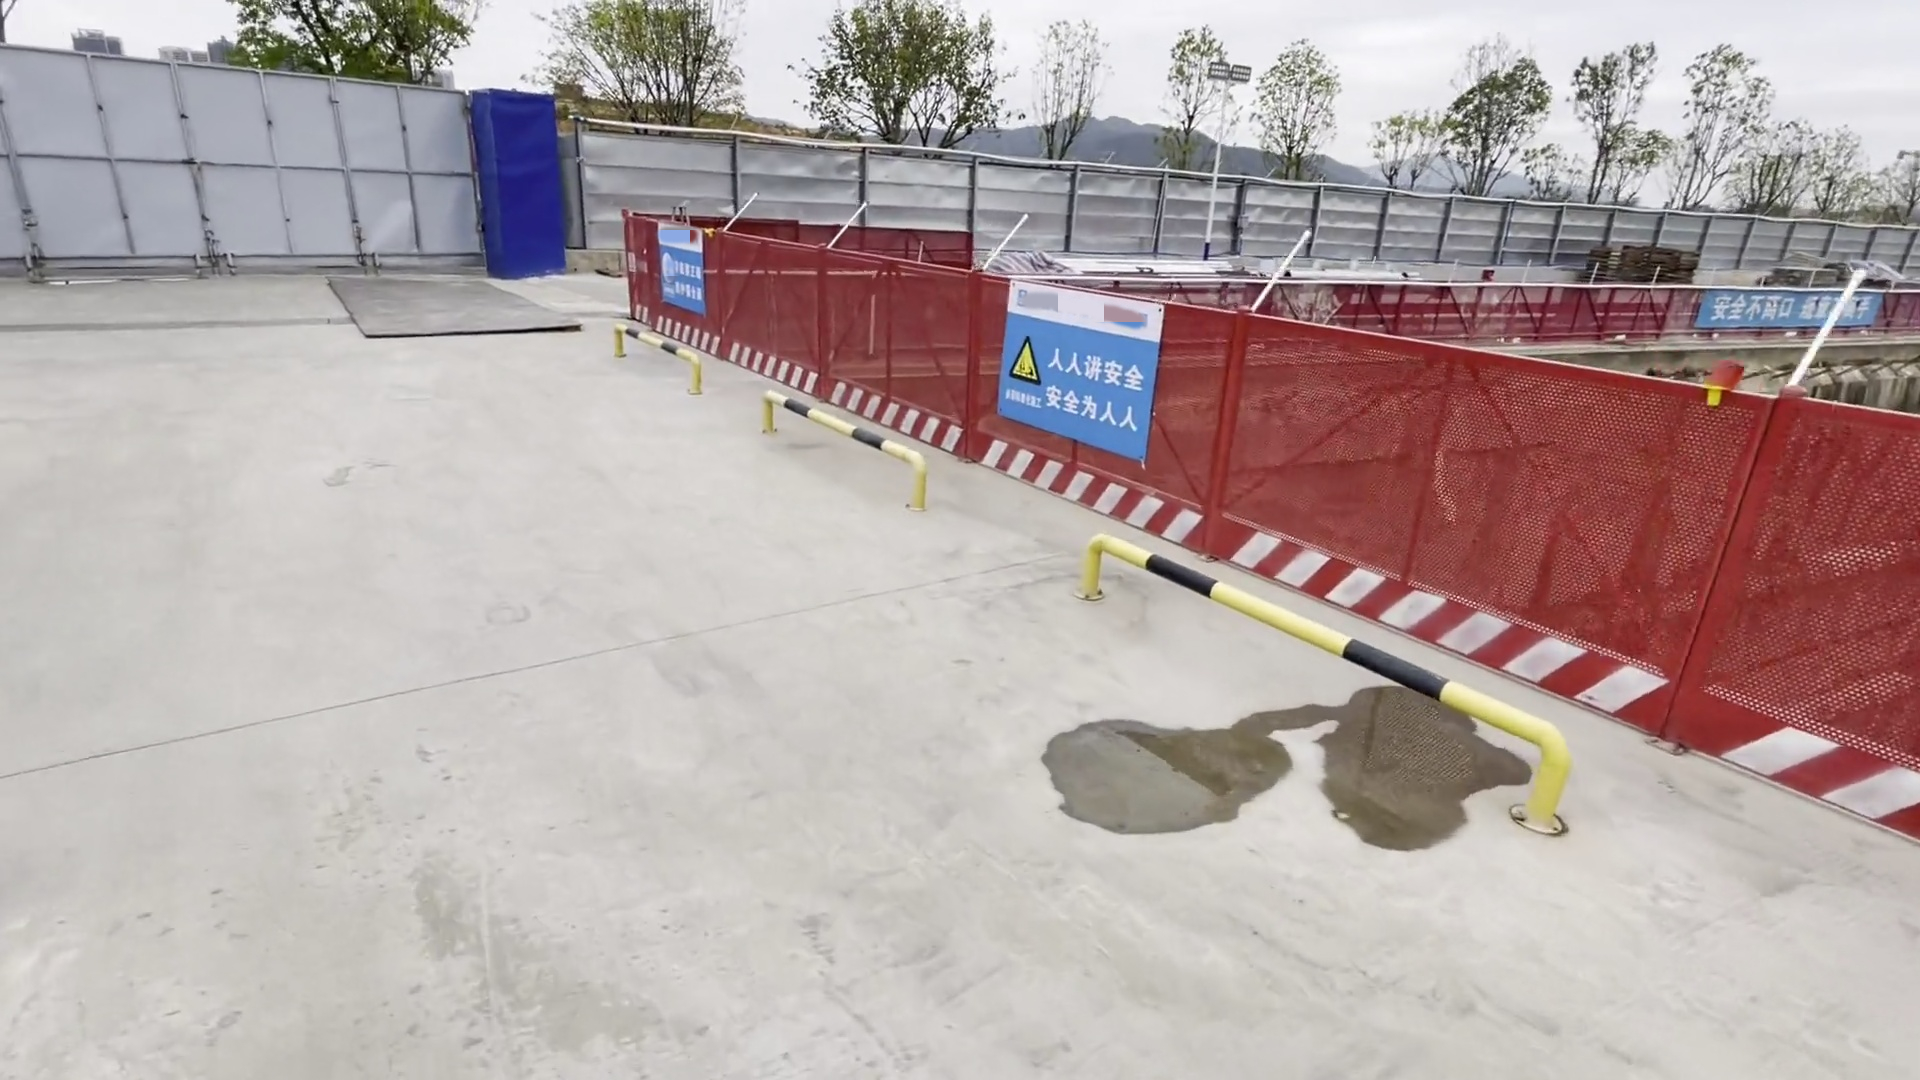fence: (621, 202, 1920, 891)
slogan: (1006, 331, 1143, 440), (658, 245, 702, 309)
